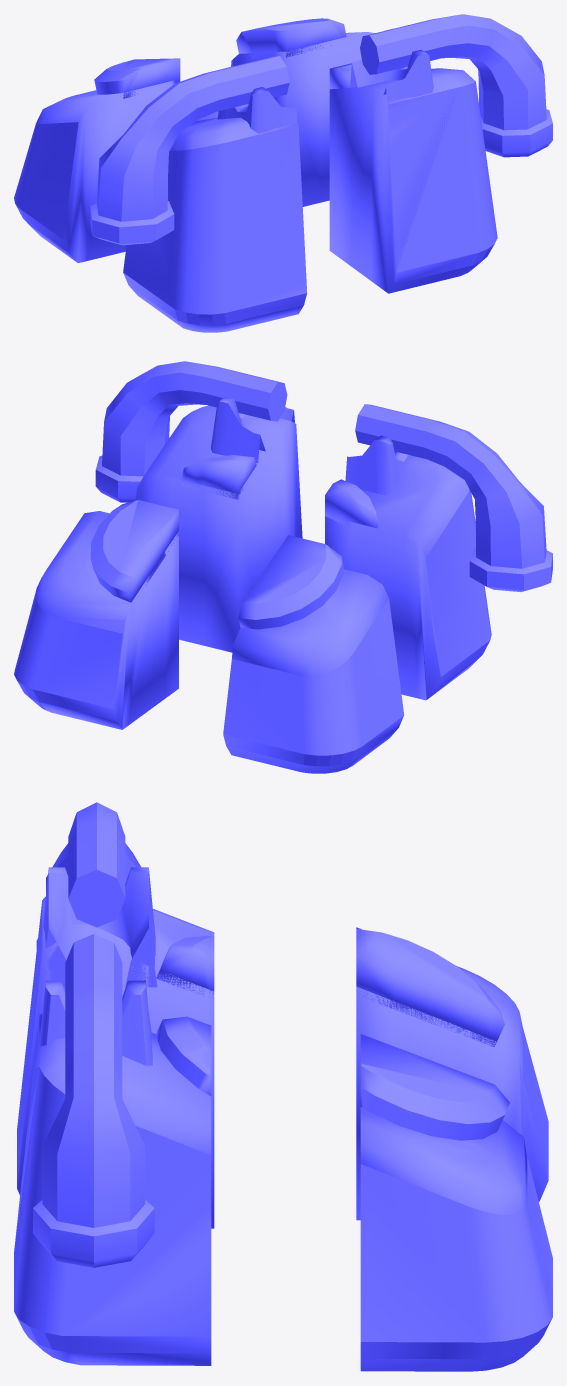
File: item_F.fbx
The picture shows the model from 3 angles, top to bottom: view 1: azimuth 30°, elevation 25°; view 2: azimuth 150°, elevation 25°; view 3: azimuth 270°, elevation 25°; orthographic projection. The views are drawn at different scales.
Visible parts, largest first — view 1: itemF_pCylinder90.002, itemF_pCylinder90.003, itemF_pCylinder90, itemF_pCylinder90.001; view 2: itemF_pCylinder90.003, itemF_pCylinder90.002, itemF_pCylinder90, itemF_pCylinder90.001; view 3: itemF_pCylinder90.002, itemF_pCylinder90.001, itemF_pCylinder90.003, itemF_pCylinder90.
Part boxes in pixels (left/top/right/bottom): itemF_pCylinder90.002: left=329, top=14, right=552, bottom=293; itemF_pCylinder90.003: left=90, top=56, right=307, bottom=332; itemF_pCylinder90: left=14, top=58, right=180, bottom=263; itemF_pCylinder90.001: left=231, top=18, right=374, bottom=206; itemF_pCylinder90.003: left=325, top=404, right=552, bottom=700; itemF_pCylinder90.002: left=95, top=361, right=302, bottom=652; itemF_pCylinder90: left=223, top=535, right=404, bottom=773; itemF_pCylinder90.001: left=14, top=500, right=178, bottom=729; itemF_pCylinder90.002: left=14, top=934, right=211, bottom=1365; itemF_pCylinder90.001: left=360, top=1034, right=552, bottom=1371; itemF_pCylinder90.003: left=17, top=802, right=214, bottom=1228; itemF_pCylinder90: left=356, top=927, right=548, bottom=1220.
Size of the model in its own units: 404 by 208 by 282.
